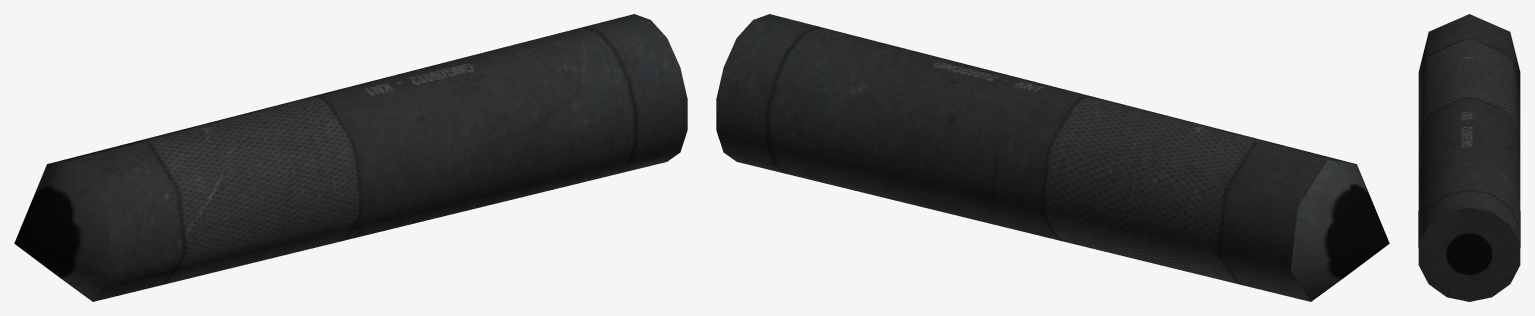
Rendered from t6_attach_smg_silencer2_world_LOD0.obj.
3 renders of one model, left to right at view 1: azimuth 30°, elevation 25°; view 2: azimuth 150°, elevation 25°; view 3: azimuth 270°, elevation 25°, orthographic. The views are drawn at different scales.
Visible parts, largest first — view 1: mtl_t6_attach_smg_silencer1; view 2: mtl_t6_attach_smg_silencer1; view 3: mtl_t6_attach_smg_silencer1.
Part boxes in pixels (bbox=[...]): mtl_t6_attach_smg_silencer1: bbox=[14, 14, 687, 301]; mtl_t6_attach_smg_silencer1: bbox=[716, 14, 1389, 301]; mtl_t6_attach_smg_silencer1: bbox=[1418, 14, 1520, 301].
Bounding box in the file's own units: 21.47 × 4.41 × 4.32.
